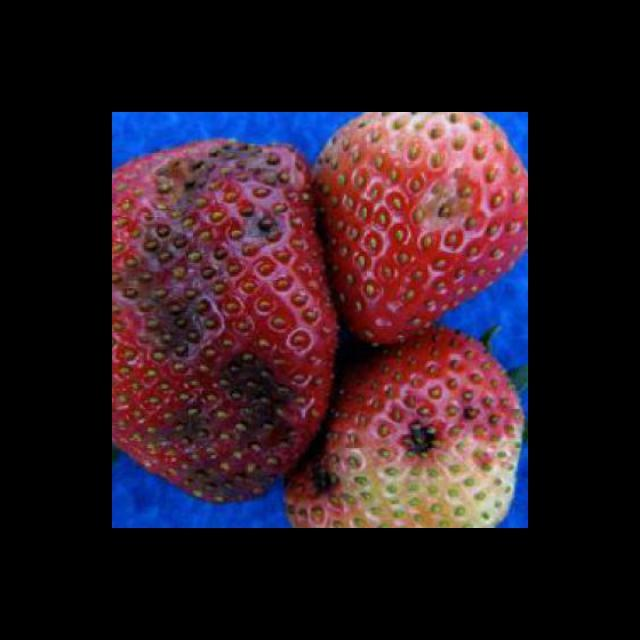Anthracnose Fruit Rot: (112, 137, 308, 504), (405, 170, 491, 246), (394, 412, 451, 467)
